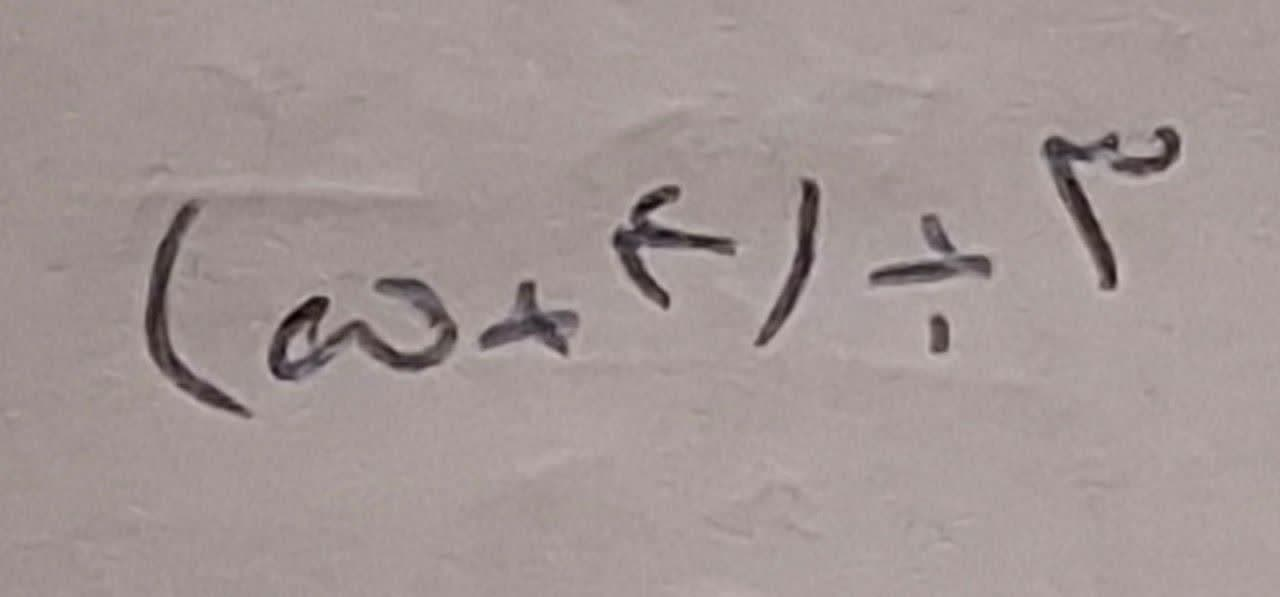character: (140, 197, 254, 424), (1038, 126, 1180, 294), (265, 273, 457, 379), (866, 208, 994, 362), (608, 181, 740, 310), (755, 172, 820, 349), (476, 278, 579, 359)
